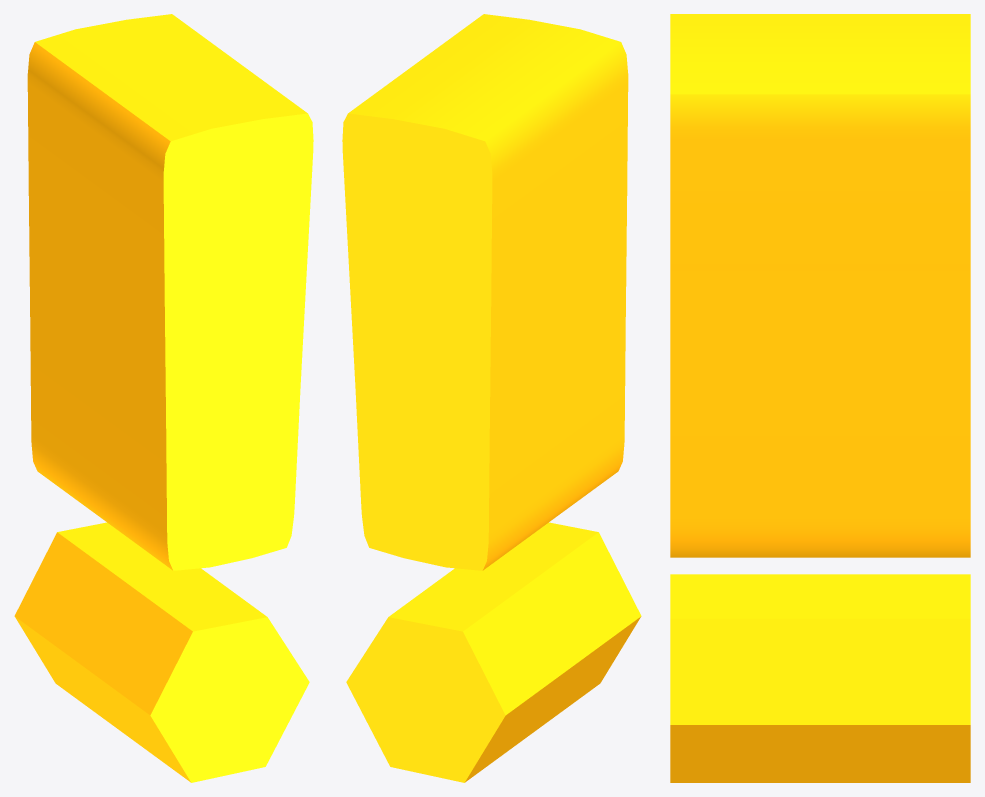
The model's file is symbol!_Zyzol_Yellow.glb.
The picture shows the model from 3 angles, left to right: view 1: azimuth 30°, elevation 25°; view 2: azimuth 150°, elevation 25°; view 3: azimuth 270°, elevation 25°; orthographic projection. The views are drawn at different scales.
Visible parts, largest first — view 1: !_Zyzol_Yellow; view 2: !_Zyzol_Yellow; view 3: !_Zyzol_Yellow.
Boxes of the visible parts, x1,y1,x2,y2 form: !_Zyzol_Yellow: [14, 14, 313, 782]; !_Zyzol_Yellow: [342, 14, 641, 782]; !_Zyzol_Yellow: [670, 14, 970, 782].
Size of what is drawn, in the model's own units: 0.0312 by 0.119 by 0.045.
Materials: 2 (2 with a texture image).
